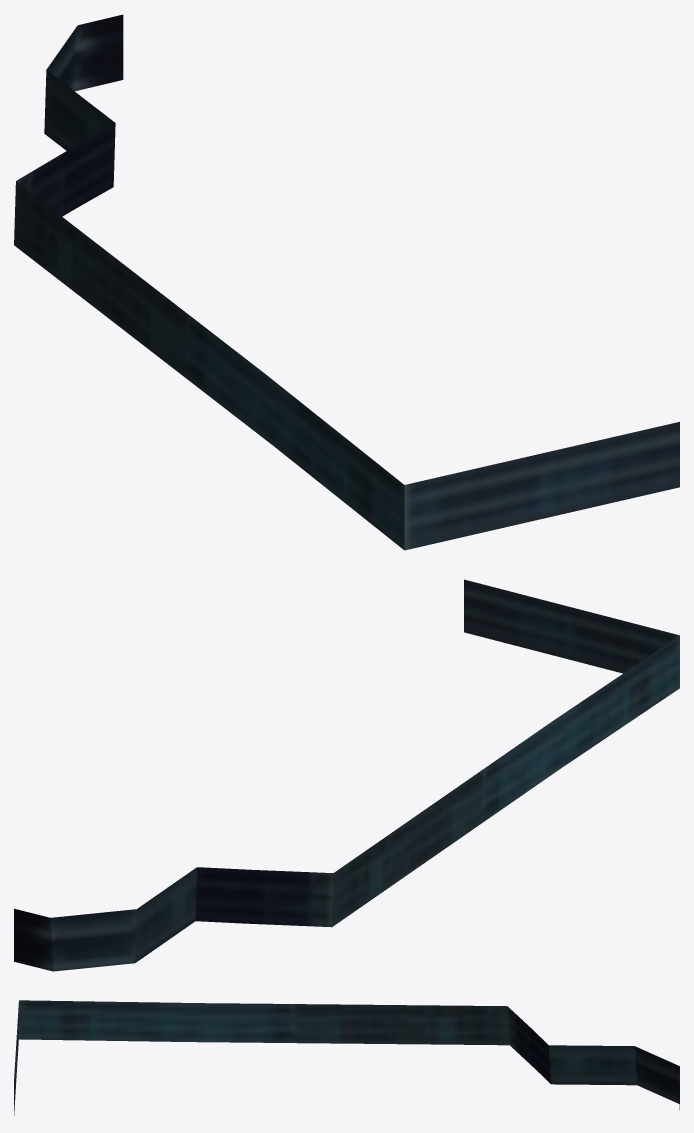
The picture shows the model from 3 angles, top to bottom: view 1: azimuth 30°, elevation 25°; view 2: azimuth 150°, elevation 25°; view 3: azimuth 270°, elevation 25°; orthographic projection. The views are drawn at different scales.
Visible parts, largest first — view 1: geometry_0; view 2: geometry_0; view 3: geometry_0.
Boxes of the visible parts, left/top/right/bottom form: geometry_0: left=14, top=14, right=679, bottom=550; geometry_0: left=14, top=579, right=679, bottom=971; geometry_0: left=14, top=1000, right=679, bottom=1115.
Bounding box in the file's own units: 14.48 × 3.34 × 51.47.
Materials: 1 (1 with a texture image).
